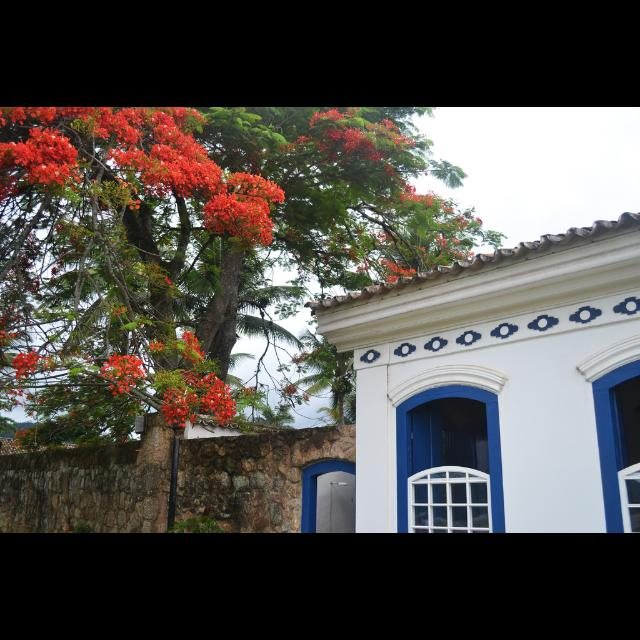Flower: (0, 108, 222, 218), (279, 182, 511, 282), (93, 330, 239, 438), (273, 107, 432, 183), (192, 174, 272, 248), (0, 313, 38, 353), (9, 348, 41, 384), (7, 426, 51, 452)
